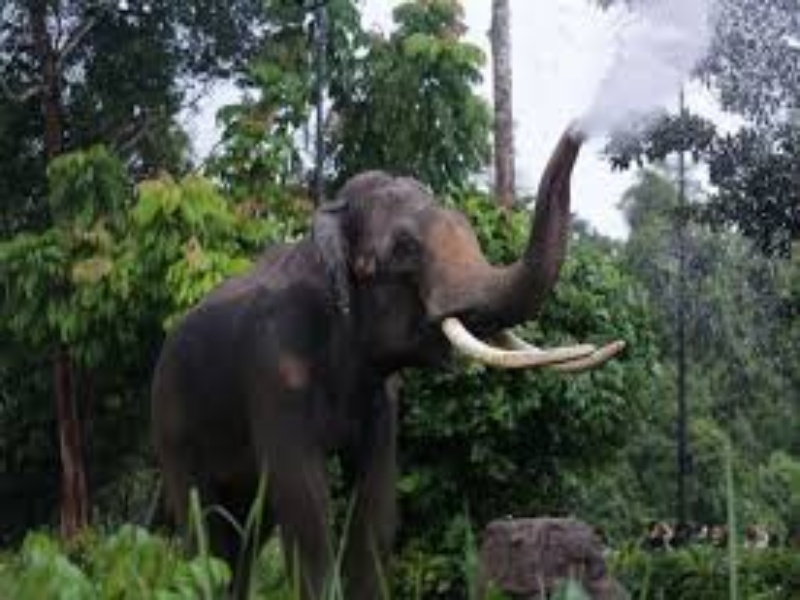elephant: (126, 102, 664, 573)
